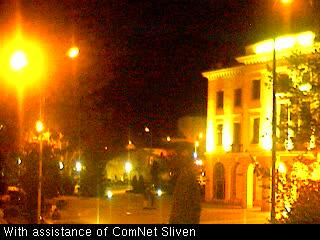person: (142, 189, 150, 210), (150, 191, 157, 209)
